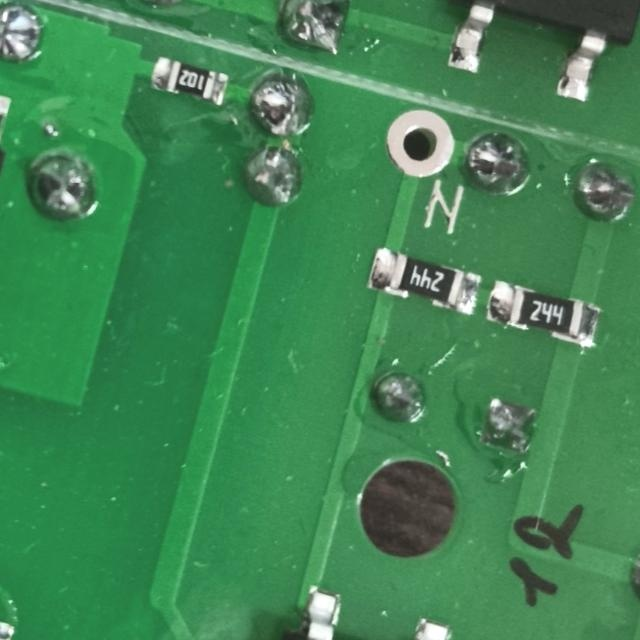chip-resistor: (360, 240, 485, 319), (482, 271, 606, 350), (145, 50, 234, 110)
